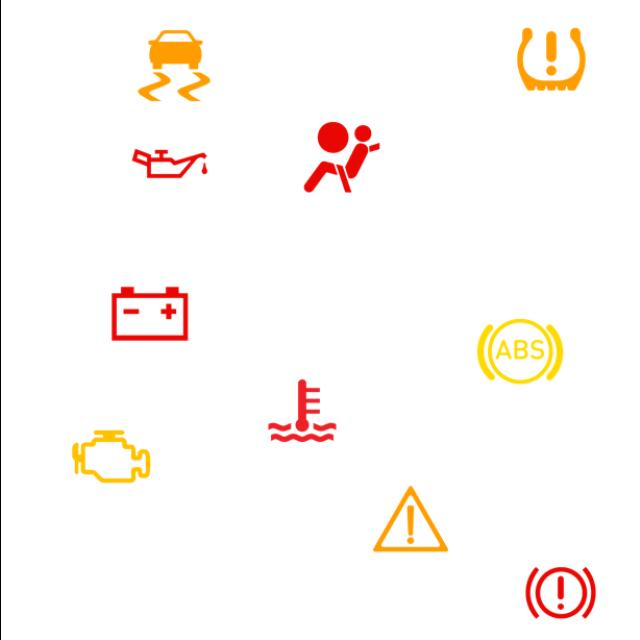Anti Lock Braking System: (472, 304, 566, 398)
Braking System Issue: (512, 546, 606, 640)
Charging System Issue: (102, 266, 196, 361)
Check Engine: (64, 409, 158, 504)
Electronic Stability Problem -ESP-: (126, 18, 220, 112)
Engine Overheating Warning Light: (254, 363, 348, 458)
Low Engine Oil Warning Light: (122, 117, 216, 210)
Low Tire Pressure Warning Light: (503, 12, 598, 106)
Master warning light: (362, 472, 457, 566)
SRS-Airbag: (294, 110, 388, 204)
